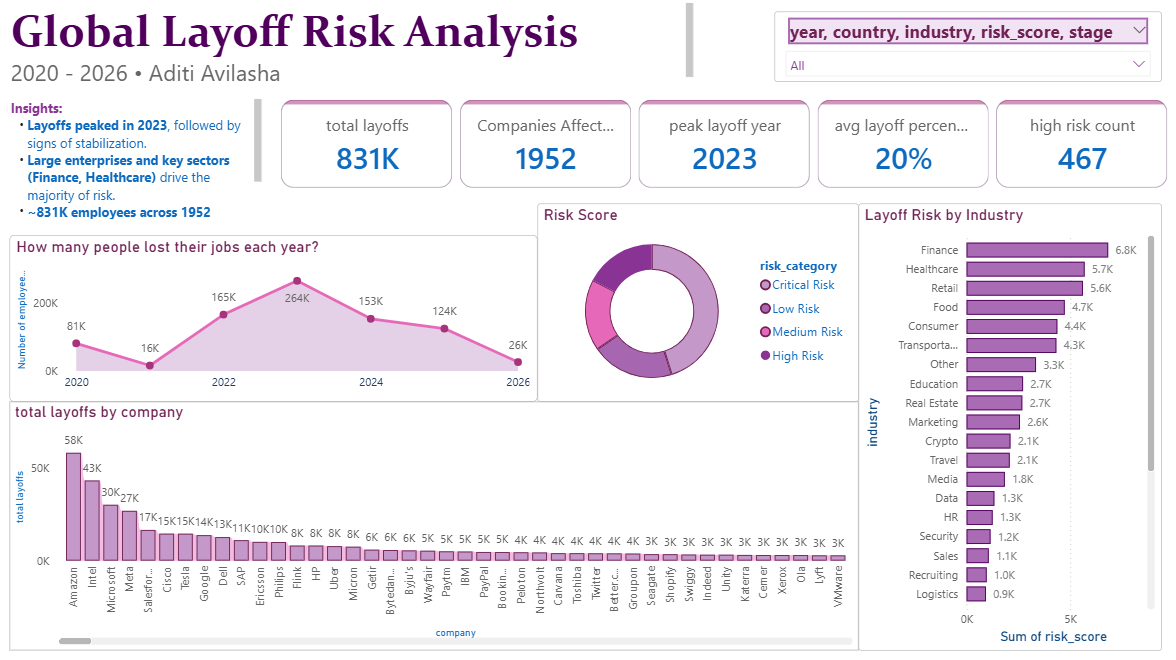

The dashboard page shown, as its layout file describes it:
{"tool":"powerbi","page":{"name":"Overview","canvas":[1280,720],"ordinal":0},"visuals":[{"type":"cardVisual","fields":{"Data":["final_layoff_risk_dataset.total layoffs","final_layoff_risk_dataset.Companies Affected","final_layoff_risk_dataset.peak layoff year","final_layoff_risk_dataset.avg layoff percentage","final_layoff_risk_dataset.high risk count"]},"box":[291.5,93.9,989.3,127.9],"z":0},{"type":"textbox","box":[11.3,0,746.5,103.6],"z":1000},{"type":"lineChart","title":"How many people lost their jobs each year?","fields":{"Category":["date.year"],"Y":["final_layoff_risk_dataset.total layoffs"]},"box":[14.6,255.8,570,179.7],"z":2000},{"type":"cardVisual","fields":{"Data":["final_layoff_risk_dataset.avg layoff percentage"]},"box":[1237,158.1,294.8,147.4],"z":3000},{"type":"donutChart","title":"Risk Score","fields":{"Category":["final_layoff_risk_dataset.risk_category"],"Y":["final_layoff_risk_dataset.total layoffs"]},"box":[584.5,221.8,346.5,213.7],"z":4000},{"type":"columnChart","fields":{"Category":["final_layoff_risk_dataset.company"],"Y":["final_layoff_risk_dataset.total layoffs"]},"box":[14.6,435.6,916.5,268.8],"z":5000},{"type":"slicer","fields":{"Values":["final_layoff_risk_dataset.risk_category"]},"box":[1356.7,44.9,175.2,29.9],"z":6000},{"type":"clusteredBarChart","title":"Layoff Risk by Industry","fields":{"Category":["final_layoff_risk_dataset.industry"],"Y":["Sum(final_layoff_risk_dataset.risk_score)"]},"box":[931.1,221.8,327.1,482.5],"z":7000},{"type":"slicer","fields":{"Values":["date.year","final_layoff_risk_dataset.country","final_layoff_risk_dataset.industry","final_layoff_risk_dataset.risk_score","final_layoff_risk_dataset.stage"]},"box":[840.4,14.6,417.8,76.1],"z":8000},{"type":"textbox","box":[11.3,103.6,280.1,139.3],"z":9000}]}

Visuals, with their boxes in screenshot pixels (x1, y1, x2, y2), scaled from the page's 1280x720 canvas onto the 1176x660 screenshot:
cardVisual - final_layoff_risk_dataset.total layoffs x final_layoff_risk_dataset.Companies Affected: [left=268, top=86, right=1175, bottom=203]
textbox: [left=10, top=0, right=696, bottom=95]
"How many people lost their jobs each year?" lineChart: [left=13, top=234, right=537, bottom=399]
cardVisual - final_layoff_risk_dataset.avg layoff percentage: [left=1136, top=145, right=1175, bottom=280]
"Risk Score" donutChart: [left=537, top=203, right=855, bottom=399]
columnChart - final_layoff_risk_dataset.company x final_layoff_risk_dataset.total layoffs: [left=13, top=399, right=855, bottom=646]
"Layoff Risk by Industry" clusteredBarChart: [left=855, top=203, right=1156, bottom=646]
slicer - date.year x final_layoff_risk_dataset.country: [left=772, top=13, right=1156, bottom=83]
textbox: [left=10, top=95, right=268, bottom=223]
